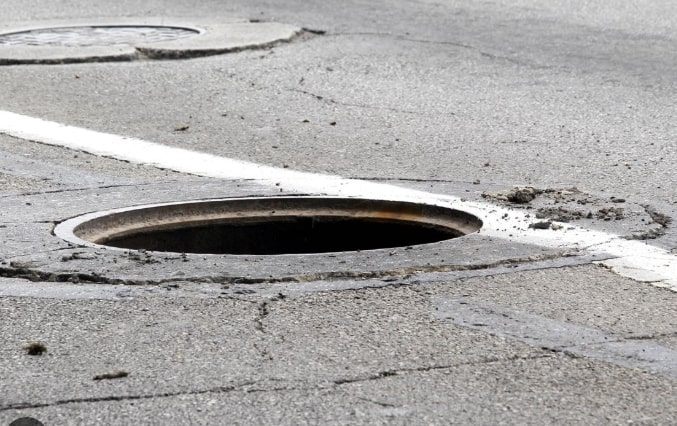open_manhole: (70, 196, 479, 259)
